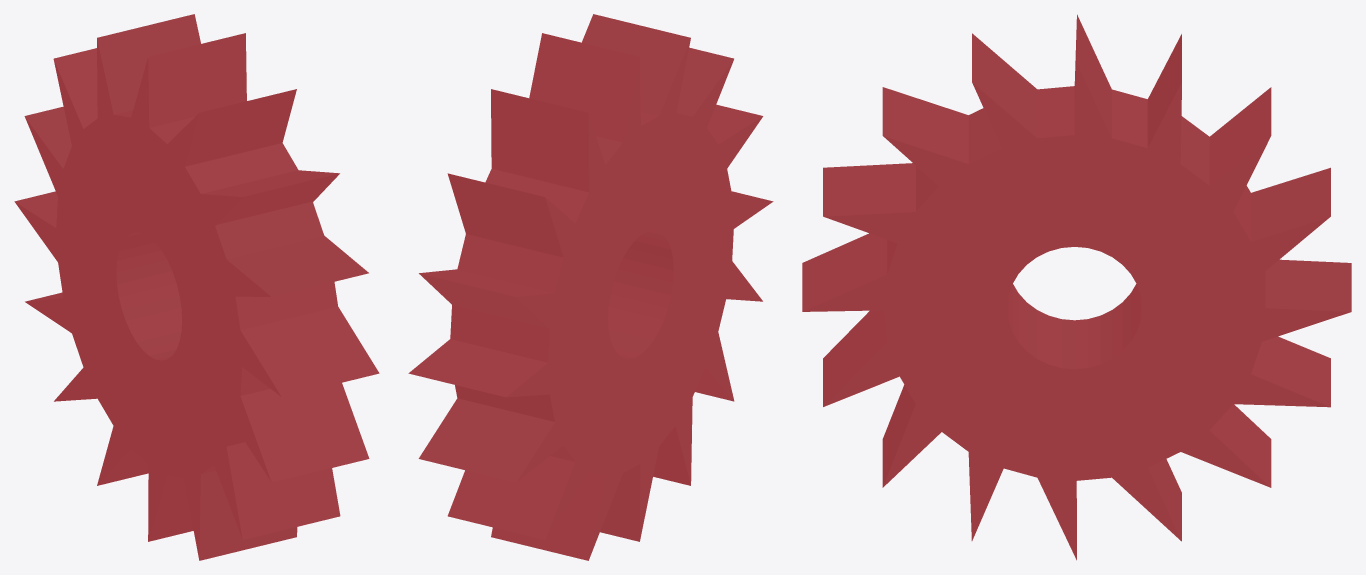
File: Gear.glb
The picture shows the model from 3 angles, left to right: view 1: azimuth 30°, elevation 25°; view 2: azimuth 150°, elevation 25°; view 3: azimuth 270°, elevation 25°; orthographic projection. The views are drawn at different scales.
Visible parts, largest first — view 1: Circle; view 2: Circle; view 3: Circle.
Boxes of the visible parts, left/top/right/bottom form: Circle: left=14, top=14, right=379, bottom=560; Circle: left=408, top=14, right=773, bottom=560; Circle: left=802, top=14, right=1351, bottom=560.
Bounding box in the file's own units: 0.4218 × 2 × 2.
